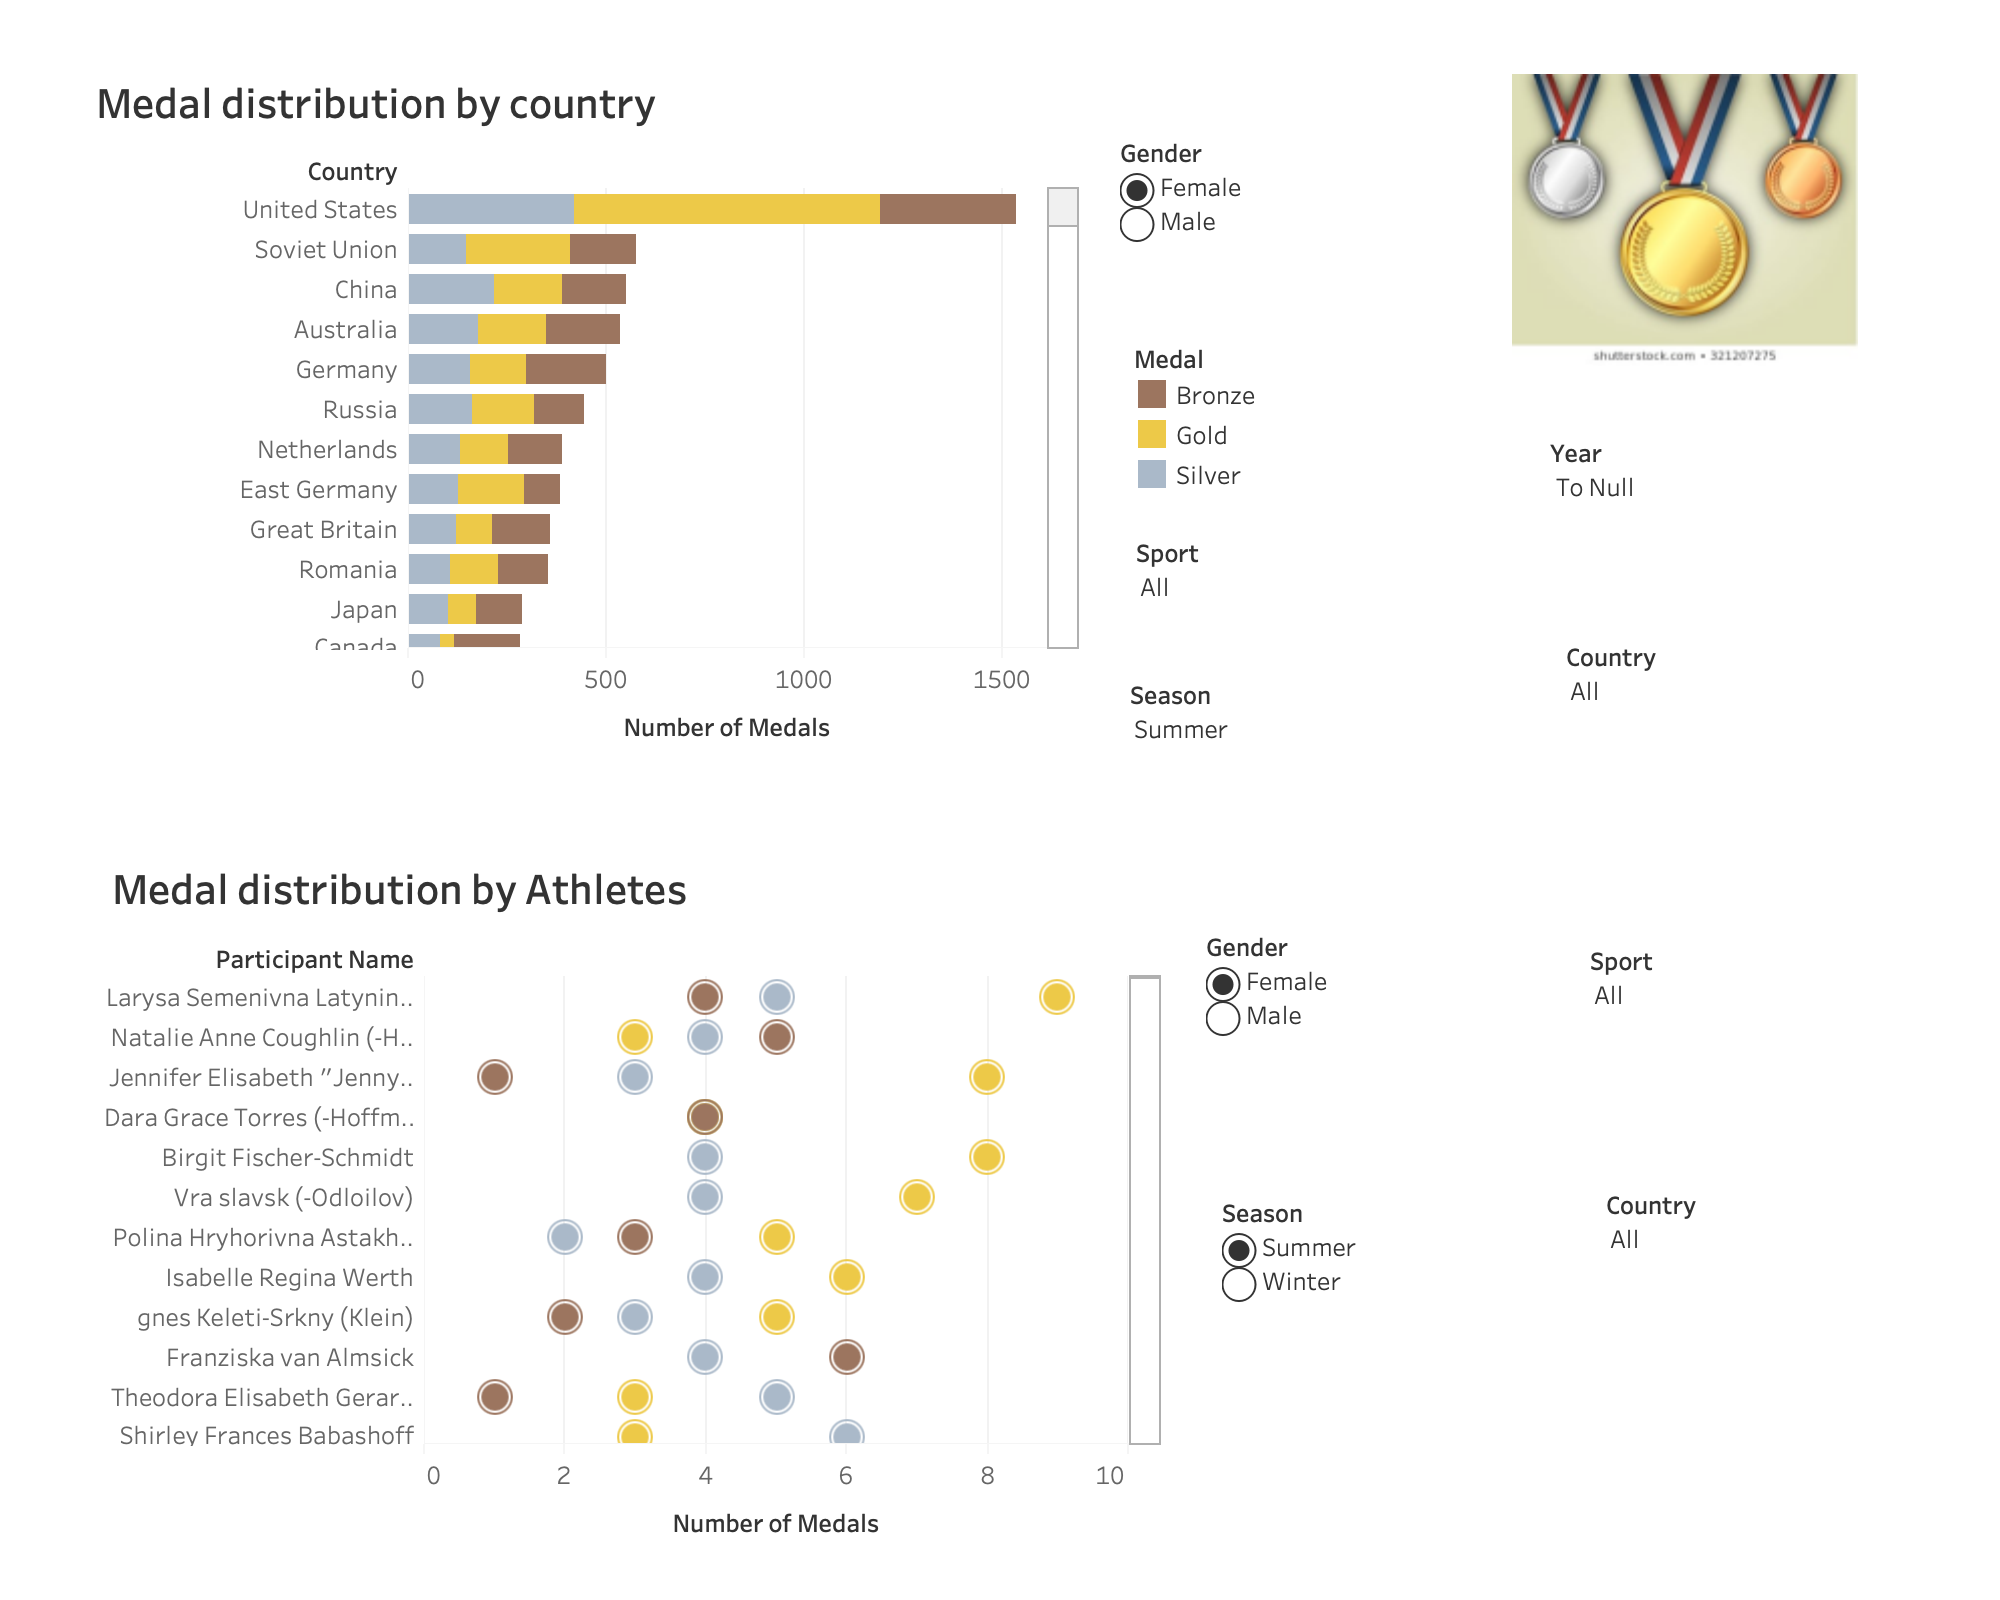

Layout of this report page (visuals, bound fields, positions):
{"tool":"tableau","page":{"name":"Medal_dashboard","canvas":[1000,800],"ordinal":1},"visuals":[{"type":"worksheet","title":"Sheet 4","mark":"Automatic","rows":["Team"],"cols":["Medal"],"box":[44,31,496,348]},{"type":"image","param":"/Users/mugdhabajjuri/Desktop/dataVisuals/medals.jpg","box":[756,37,173,147]},{"type":"filter","title":"Sheet 4","param":"[federated.1xbeyc50bsaoqk1h3shx91v1vtxf].[none:Sex:nk]","box":[560,67,160,81]},{"type":"legend","title":"Sheet 4","param":"[federated.1xbeyc50bsaoqk1h3shx91v1vtxf].[none:Medal:nk]","box":[566,169,140,78]},{"type":"filter","title":"Sheet 4","param":"[federated.1xbeyc50bsaoqk1h3shx91v1vtxf].[none:Year:qk]","box":[775,217,160,58]},{"type":"filter","title":"Sheet 4","param":"[federated.1xbeyc50bsaoqk1h3shx91v1vtxf].[none:Sport:nk]","box":[568,267,160,44]},{"type":"filter","title":"Sheet 4","param":"[federated.1xbeyc50bsaoqk1h3shx91v1vtxf].[none:Team:nk]","box":[783,319,160,44]},{"type":"filter","title":"Sheet 4","param":"[federated.1xbeyc50bsaoqk1h3shx91v1vtxf].[none:Season:nk]","box":[565,338,160,44]},{"type":"worksheet","title":"Sheet 5","mark":"Shape","rows":["Name"],"cols":["Number of Records"],"box":[52,424,529,353]},{"type":"filter","title":"Sheet 5","param":"[federated.1xbeyc50bsaoqk1h3shx91v1vtxf].[none:Sex:nk]","box":[603,464,160,74]},{"type":"filter","title":"Sheet 5","param":"[federated.1xbeyc50bsaoqk1h3shx91v1vtxf].[none:Sport:nk]","box":[795,471,160,44]},{"type":"filter","title":"Sheet 5","param":"[federated.1xbeyc50bsaoqk1h3shx91v1vtxf].[none:Team:nk]","box":[803,593,160,44]},{"type":"filter","title":"Sheet 5","param":"[federated.1xbeyc50bsaoqk1h3shx91v1vtxf].[none:Season:nk]","box":[611,597,160,81]}]}

Visuals, with their boxes in screenshot pixels (x1, y1, x2, y2), scaled from the page's 1000x800 canvas onto the 2000x1600 screenshot:
"Sheet 4" worksheet: [88,62,1080,758]
image: [1512,74,1858,368]
"Sheet 4" filter: [1120,134,1440,296]
"Sheet 4" legend: [1132,338,1412,494]
"Sheet 4" filter: [1550,434,1870,550]
"Sheet 4" filter: [1136,534,1456,622]
"Sheet 4" filter: [1566,638,1886,726]
"Sheet 4" filter: [1130,676,1450,764]
"Sheet 5" worksheet (Shape marks): [104,848,1162,1554]
"Sheet 5" filter: [1206,928,1526,1076]
"Sheet 5" filter: [1590,942,1910,1030]
"Sheet 5" filter: [1606,1186,1926,1274]
"Sheet 5" filter: [1222,1194,1542,1356]
